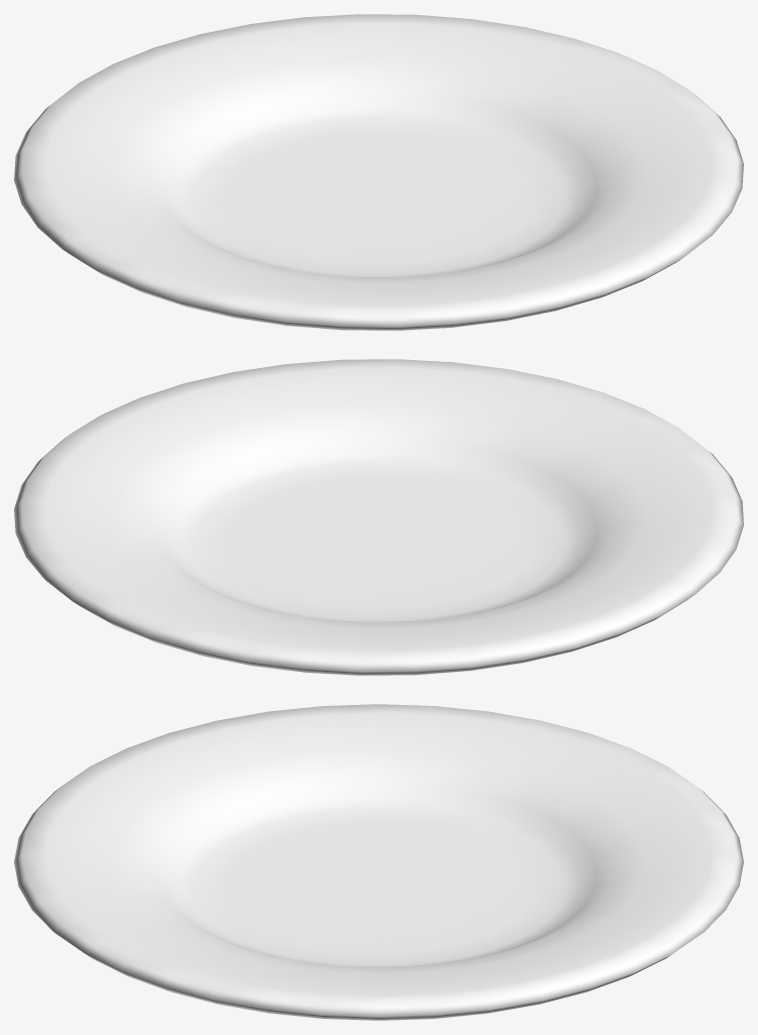
Rendered from PlatoLlano.fbx.
The picture shows the model from 3 angles, top to bottom: view 1: azimuth 30°, elevation 25°; view 2: azimuth 150°, elevation 25°; view 3: azimuth 270°, elevation 25°; orthographic projection.
Parts seen in each view (by area): view 1: Plano_llano; view 2: Plano_llano; view 3: Plano_llano.
Boxes of the visible parts, x1,y1,x2,y2 form: Plano_llano: [14, 14, 743, 330]; Plano_llano: [14, 359, 743, 675]; Plano_llano: [14, 704, 743, 1020].
Size of the model in its own units: 68.89 by 5.54 by 68.89.
Materials: 1 (1 with a texture image).
